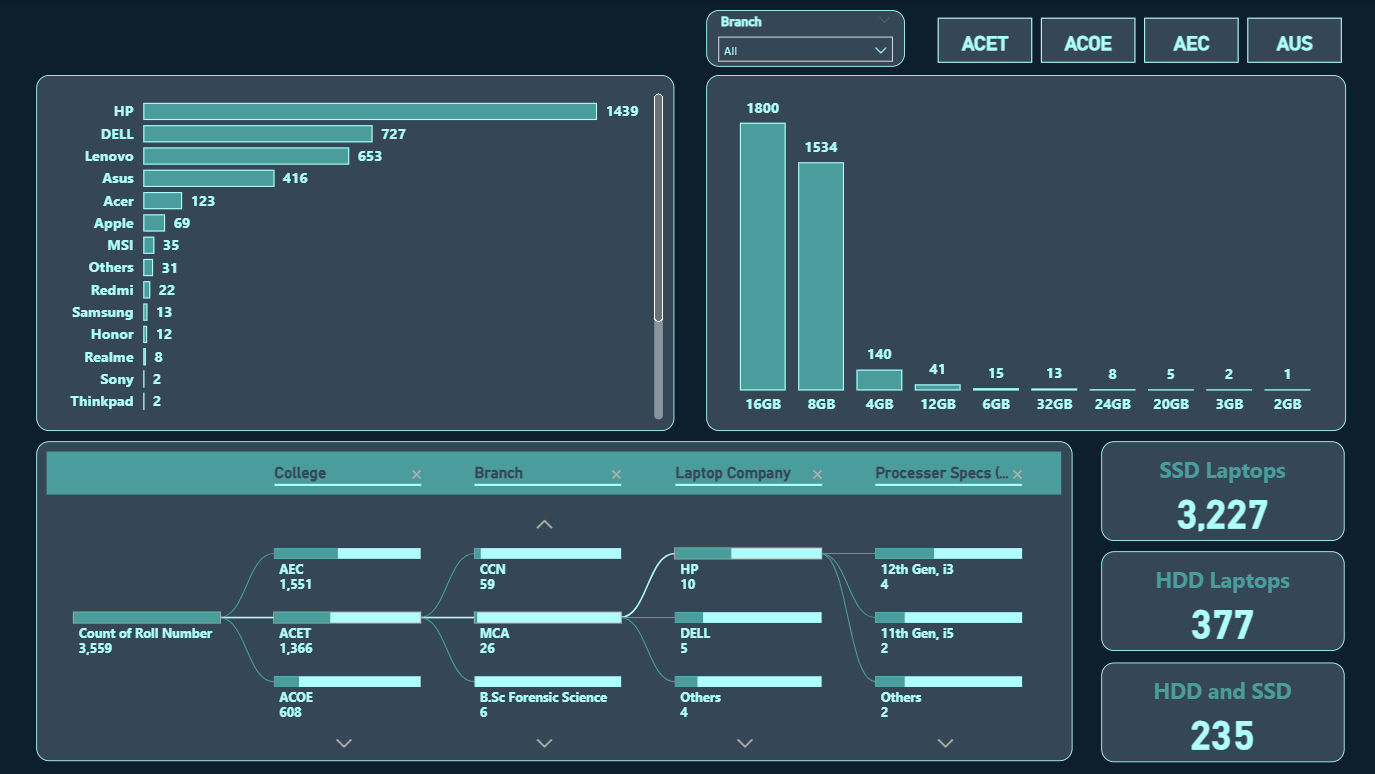

Layout of this report page (visuals, bound fields, positions):
{"tool":"powerbi","page":{"name":"Page 1","canvas":[1280,720],"ordinal":0},"visuals":[{"type":"barChart","fields":{"Category":["Clean Data.Laptop Company"],"Y":["CountNonNull(Clean Data.Roll Number)"]},"box":[33.4,70,593.3,330.8],"z":0},{"type":"columnChart","fields":{"Y":["CountNonNull(Clean Data.Roll Number)"],"Category":["Clean Data.RAM Capacity in GB"]},"box":[656.9,70,594.9,330.8],"z":1000},{"type":"cardVisual","fields":{"Data":["CountNonNull(Clean Data.SSD in Laptop)"]},"box":[1024.3,410.1,226.8,92.6],"z":2000},{"type":"cardVisual","fields":{"Data":["CountNonNull(Clean Data.SSD in Laptop)"]},"box":[1024.3,513.1,226.8,92.6],"z":3000},{"type":"cardVisual","fields":{"Data":["CountNonNull(Clean Data.SSD in Laptop)"]},"box":[1024.3,616.1,226.8,92.6],"z":4000},{"type":"advancedSlicerVisual","fields":{"Values":["Clean Data.College"]},"box":[866.9,11.1,386.5,52.5],"z":5000},{"type":"slicer","fields":{"Values":["Clean Data.Branch"]},"box":[656.9,9.5,184.5,52.5],"z":6000},{"type":"decompositionTreeVisual","fields":{"Analyze":["CountNonNull(Clean Data.Roll Number)"],"ExplainBy":["Clean Data.College","Clean Data.Branch","Clean Data.Laptop Company","Clean Data.Processer Specs (Series, Generation, Cores)."]},"box":[33.4,410.4,963.9,297.4],"z":7000}]}

Visuals, with their boxes in screenshot pixels (x1, y1, x2, y2), scaled from the page's 1280x720 canvas onto the 1375x774 screenshot:
barChart - Clean Data.Laptop Company x CountNonNull(Clean Data.Roll Number): crop(36, 75, 673, 431)
columnChart - CountNonNull(Clean Data.Roll Number) x Clean Data.RAM Capacity in GB: crop(706, 75, 1345, 431)
cardVisual - CountNonNull(Clean Data.SSD in Laptop): crop(1100, 441, 1344, 540)
cardVisual - CountNonNull(Clean Data.SSD in Laptop): crop(1100, 552, 1344, 651)
cardVisual - CountNonNull(Clean Data.SSD in Laptop): crop(1100, 662, 1344, 762)
advancedSlicerVisual - Clean Data.College: crop(931, 12, 1346, 68)
slicer - Clean Data.Branch: crop(706, 10, 904, 67)
decompositionTreeVisual - CountNonNull(Clean Data.Roll Number) x Clean Data.College: crop(36, 441, 1071, 761)
